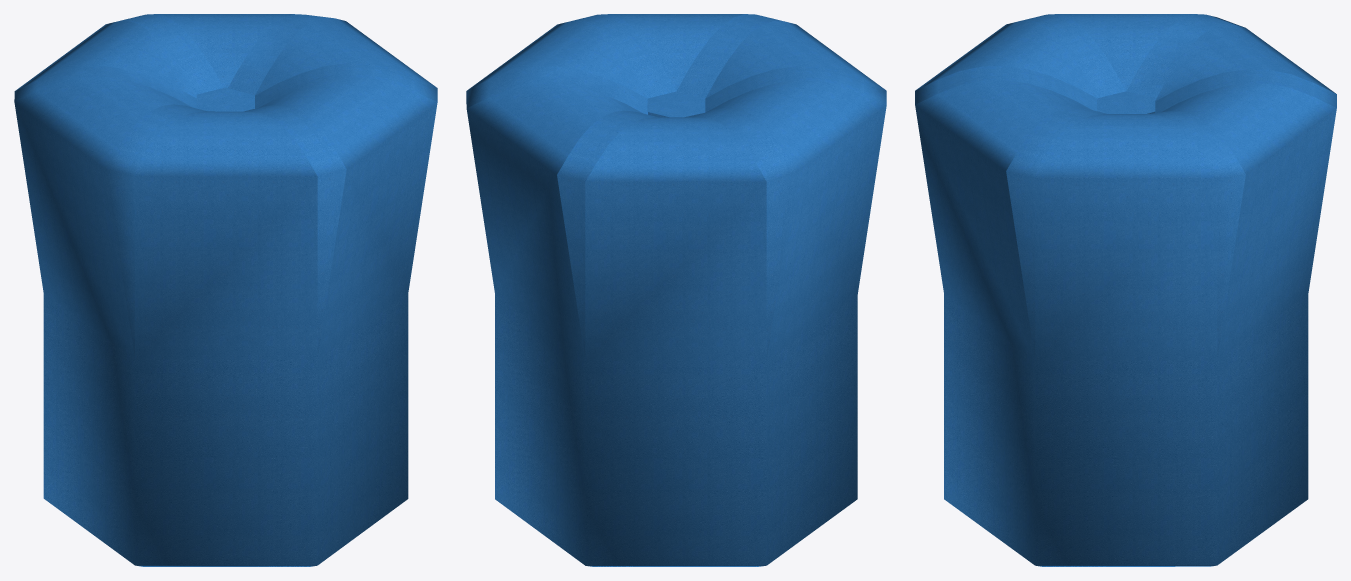
The model's file is hat1.dae.
3 views of the same model, side by side, from view 1: azimuth 30°, elevation 25°; view 2: azimuth 150°, elevation 25°; view 3: azimuth 270°, elevation 25° (orthographic).
Parts seen in each view (by area): view 1: instance_0; view 2: instance_0; view 3: instance_0.
Part boxes in pixels (bbox=[...]): instance_0: bbox=[14, 14, 437, 566]; instance_0: bbox=[466, 14, 886, 566]; instance_0: bbox=[915, 14, 1336, 566].
Size of the model in its own units: 0.7506 by 0.8315 by 0.9424.
1 material, 1 textured.
